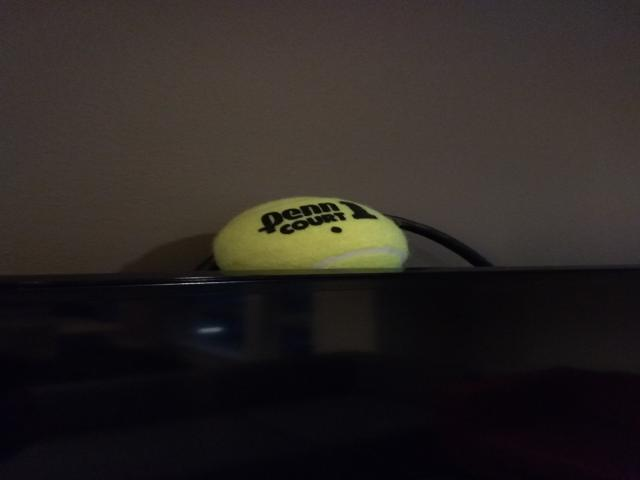tennis-ball: (212, 194, 410, 270)
